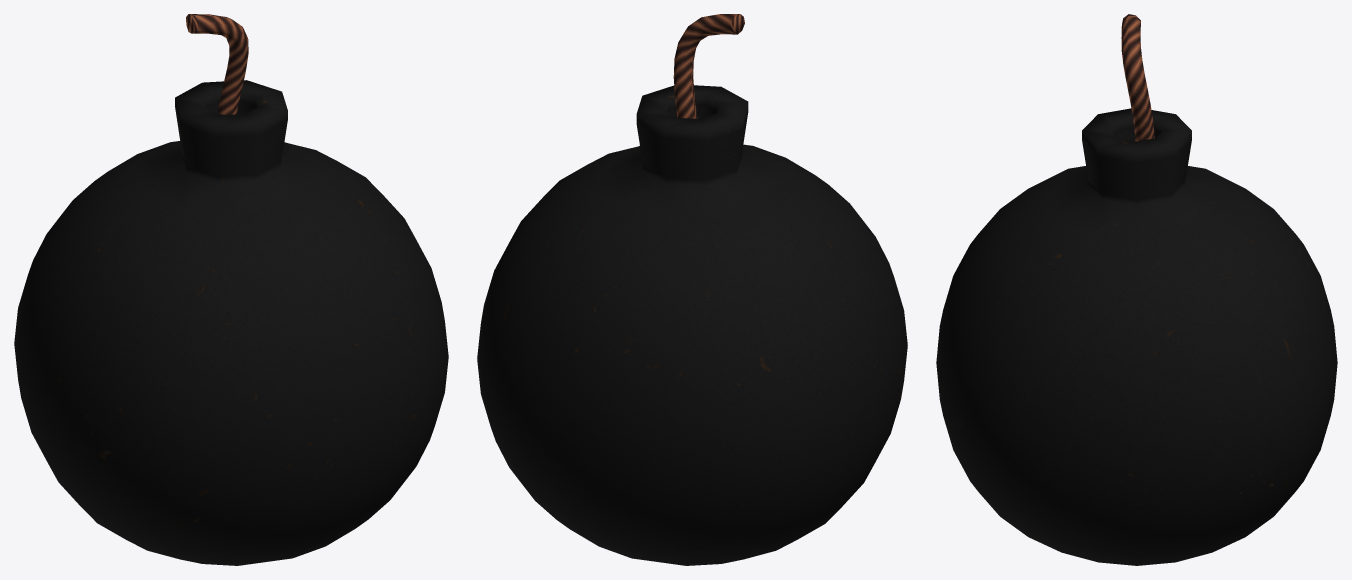
The model's file is Bomb.obj.
The picture shows the model from 3 angles, left to right: view 1: azimuth 30°, elevation 25°; view 2: azimuth 150°, elevation 25°; view 3: azimuth 270°, elevation 25°; orthographic projection. The views are drawn at different scales.
Parts seen in each view (by area): view 1: Bomb; view 2: Bomb; view 3: Bomb.
Part boxes in pixels (box(x1,y1,x2,y2)): Bomb: box(14, 14, 448, 565); Bomb: box(477, 14, 907, 565); Bomb: box(936, 14, 1337, 565).
Size of the model in its own units: 0.3 by 0.4211 by 0.3.
